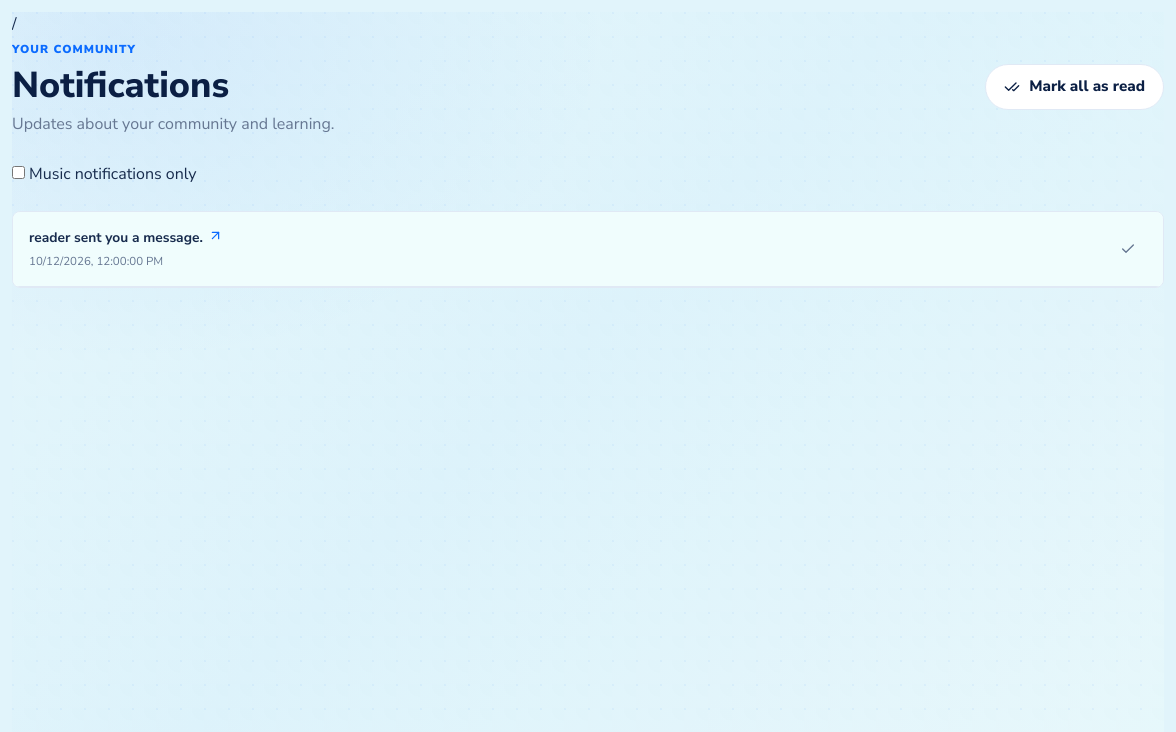
Test: NotificationsPage › marks an unread notification read before opening its conversation
Click the link "reader sent you a message." at [126, 238], box [29,228,223,247]
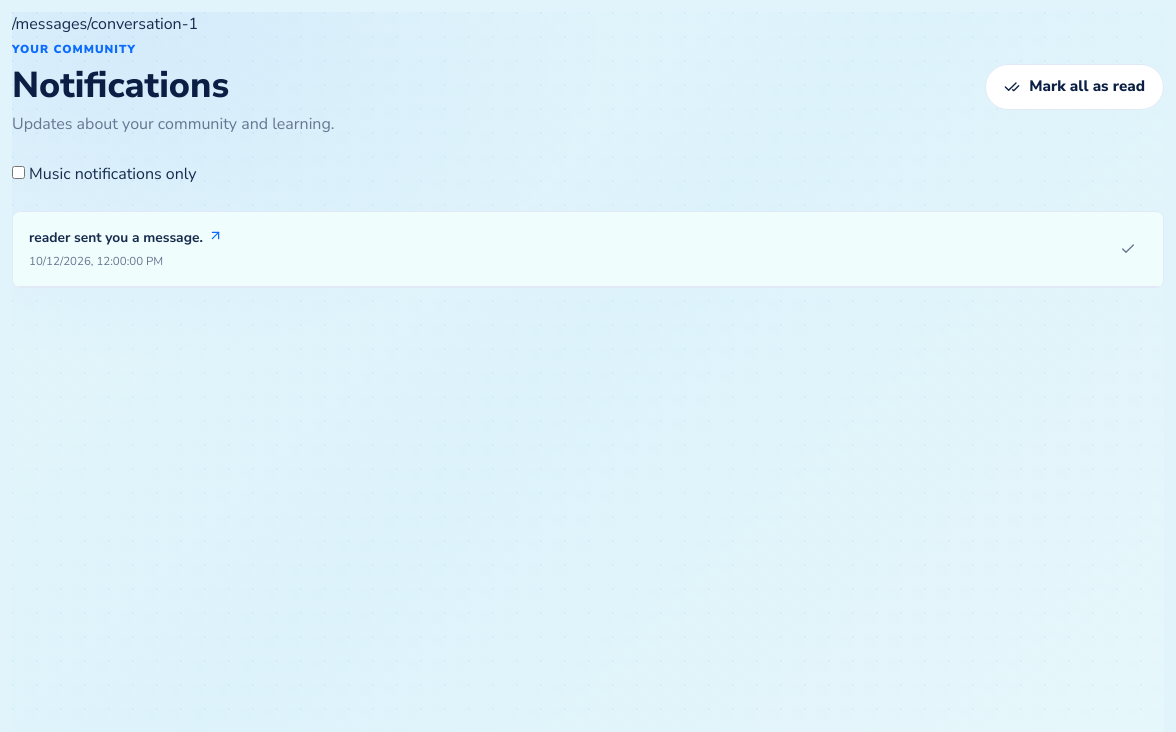
Expected: the text with test id "pathname" reads "/messages/conversation-1", [12,13,198,35]
